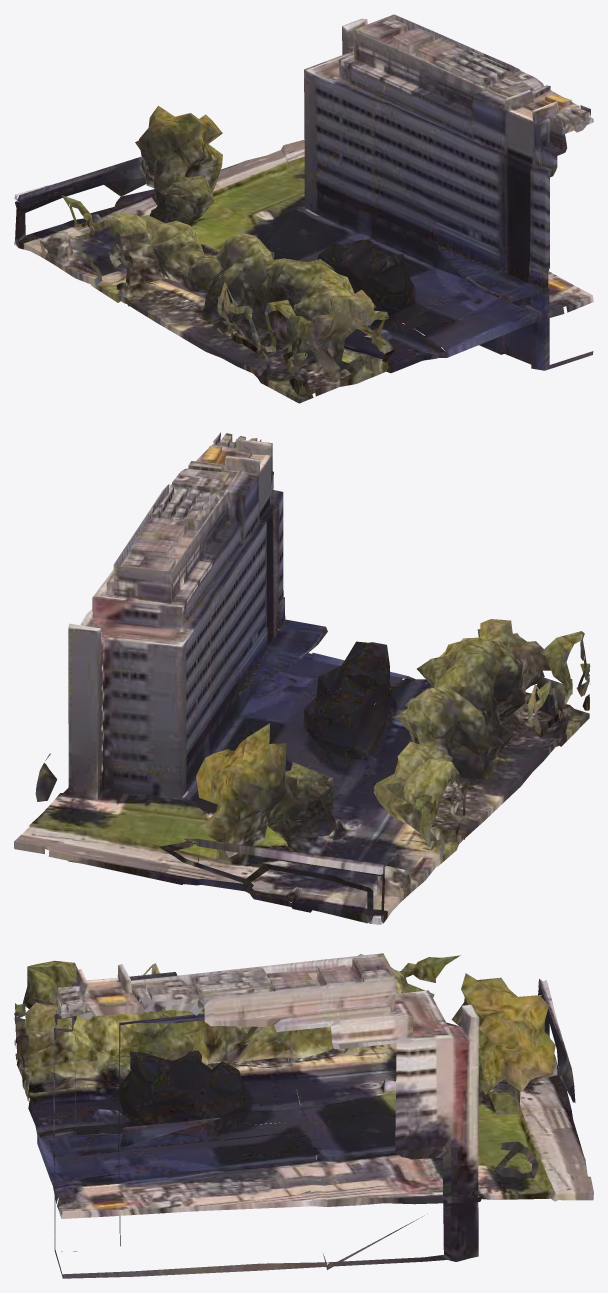
3 views of the same model, one above another, from view 1: azimuth 30°, elevation 25°; view 2: azimuth 150°, elevation 25°; view 3: azimuth 270°, elevation 25° (orthographic). The views are drawn at different scales.
Visible parts, largest first — view 1: Mesh_0; view 2: Mesh_0; view 3: Mesh_0.
Part boxes in pixels (x1,y1,x2,y2): Mesh_0: (14,14,593,403); Mesh_0: (14,432,590,924); Mesh_0: (14,953,593,1278).
Bounding box in the file's own units: 66.6 × 45.05 × 82.54.
1 material, 1 textured.
